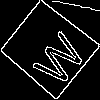W: (24, 24, 88, 90)
